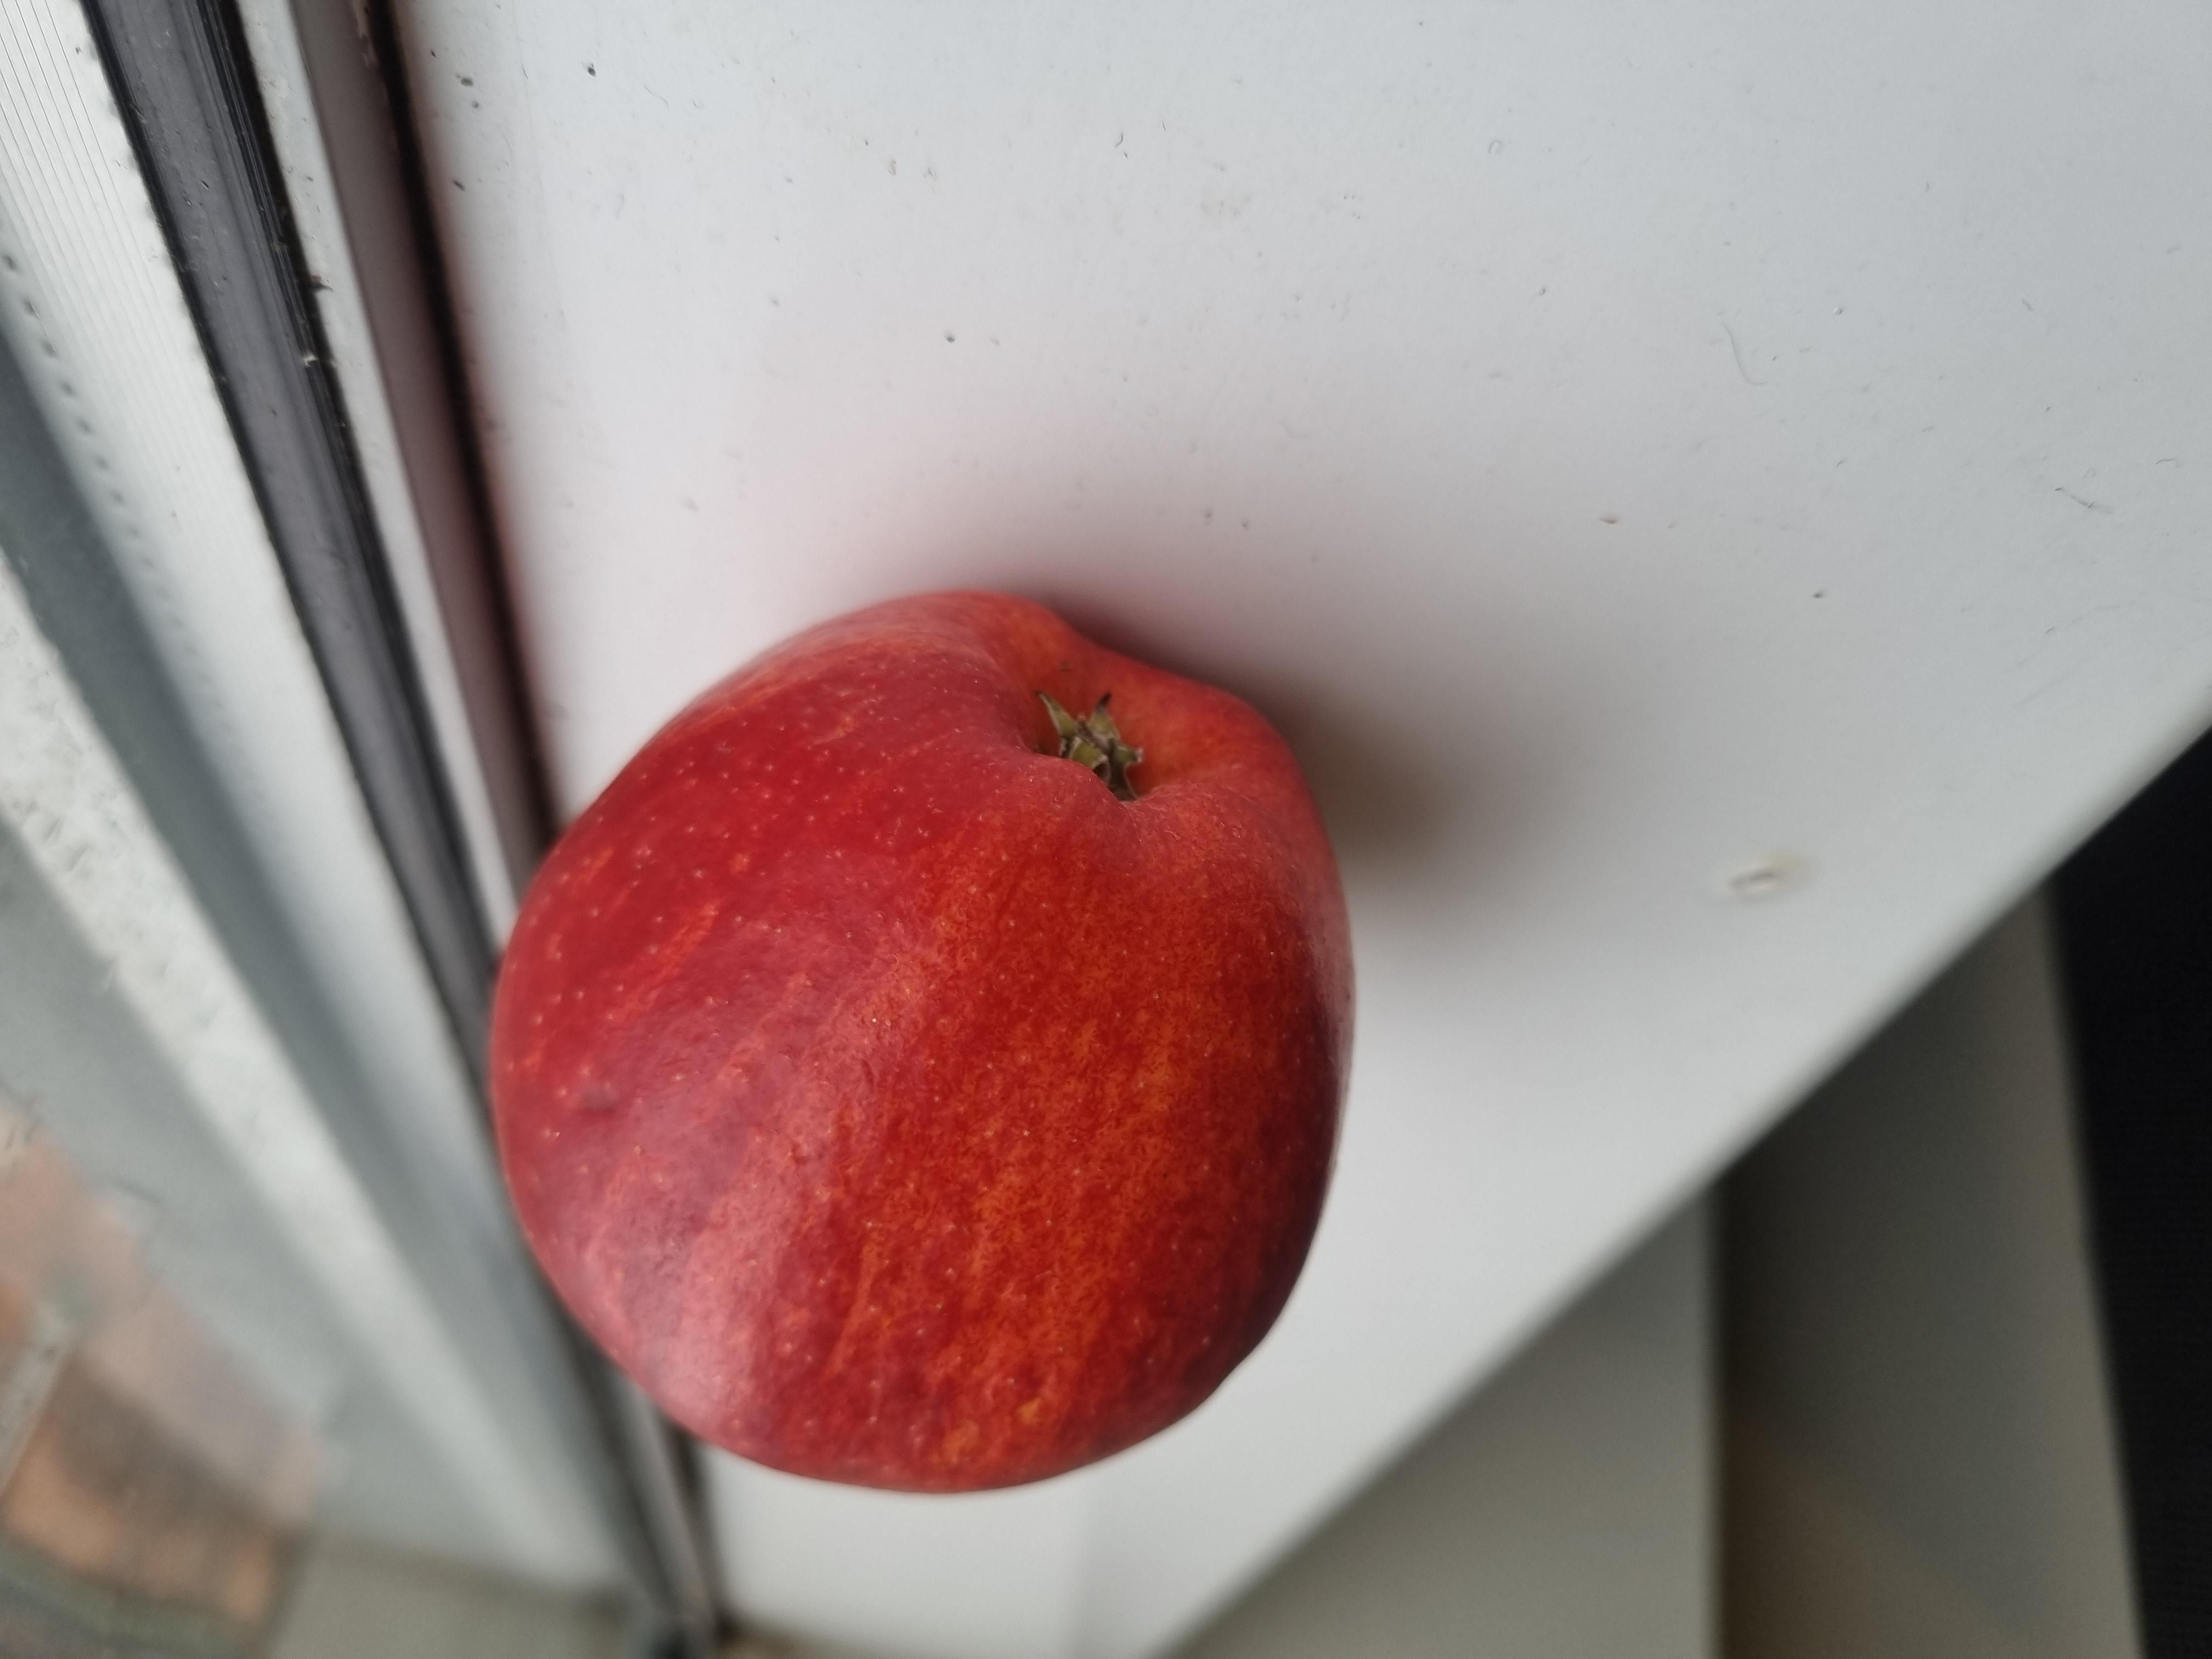Apple: (833, 134, 1745, 1080)
